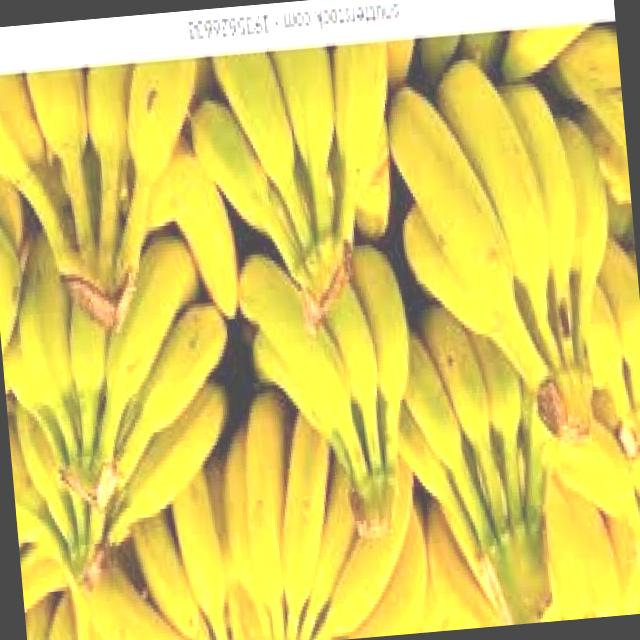Banana: (382, 51, 626, 450), (0, 232, 244, 593), (388, 303, 576, 632), (188, 38, 403, 325), (235, 237, 430, 551), (0, 55, 209, 337), (217, 384, 421, 640)
